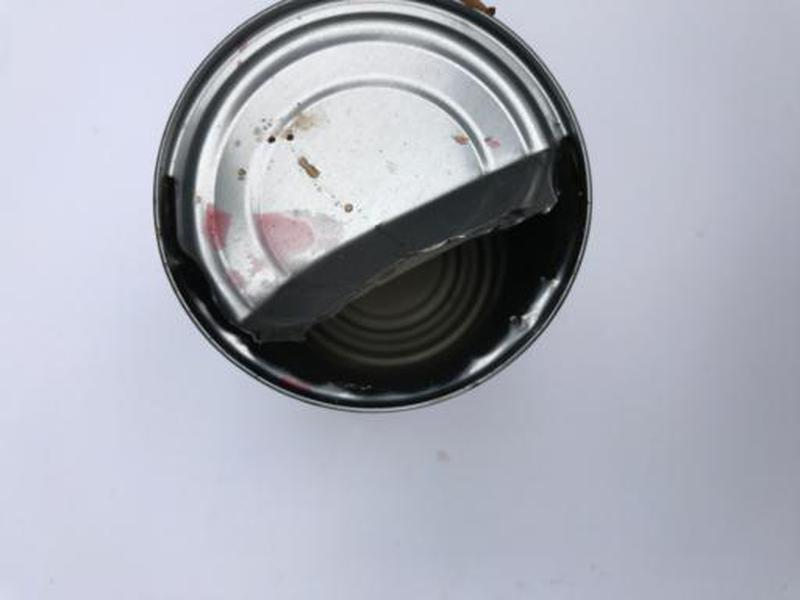can: (144, 1, 597, 415)
